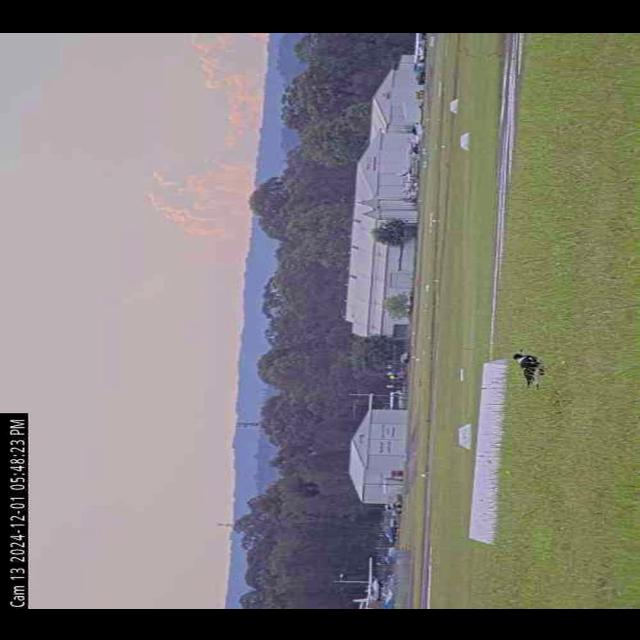Birds-Other: (507, 346, 554, 390)
